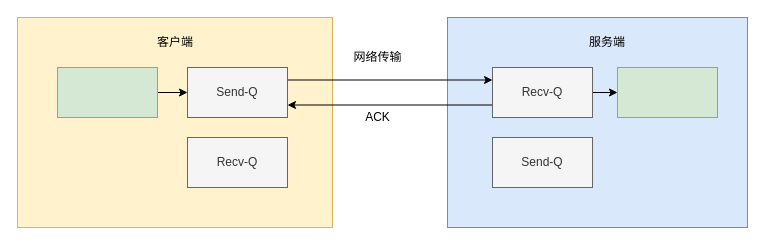
This 765x245 diagram has some shape labels left out. Each missing label, with the box of its shape:
数据写入: (56, 66, 158, 118)
数据读取: (616, 66, 718, 118)
